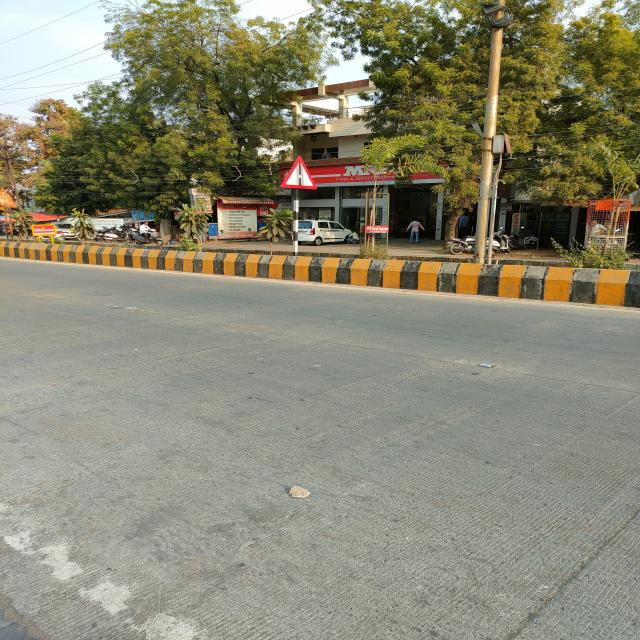ferry: (280, 156, 318, 190)
